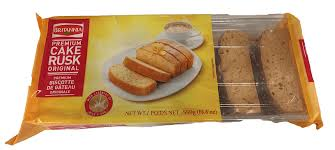Britania-toast-small: (13, 1, 316, 143)
